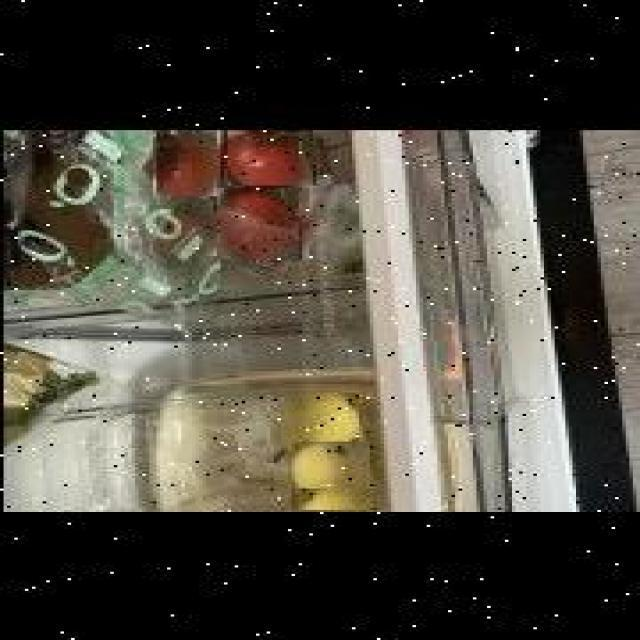pear: (266, 392, 360, 460), (292, 440, 369, 508)
tomato: (218, 186, 304, 258), (148, 207, 230, 271), (224, 128, 313, 184), (153, 128, 217, 194)
